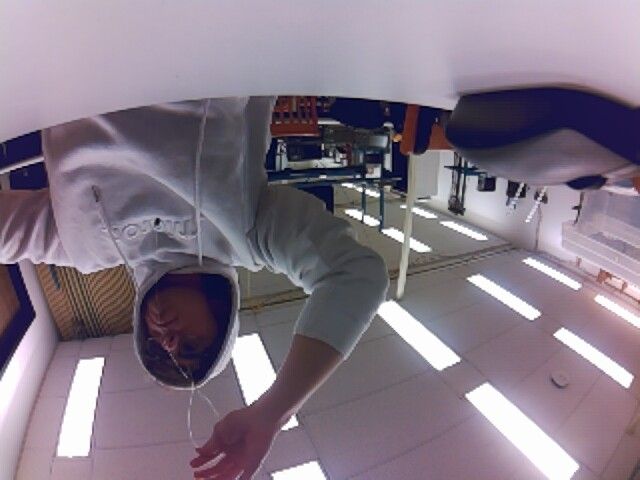mosquito: (153, 217, 161, 228)
